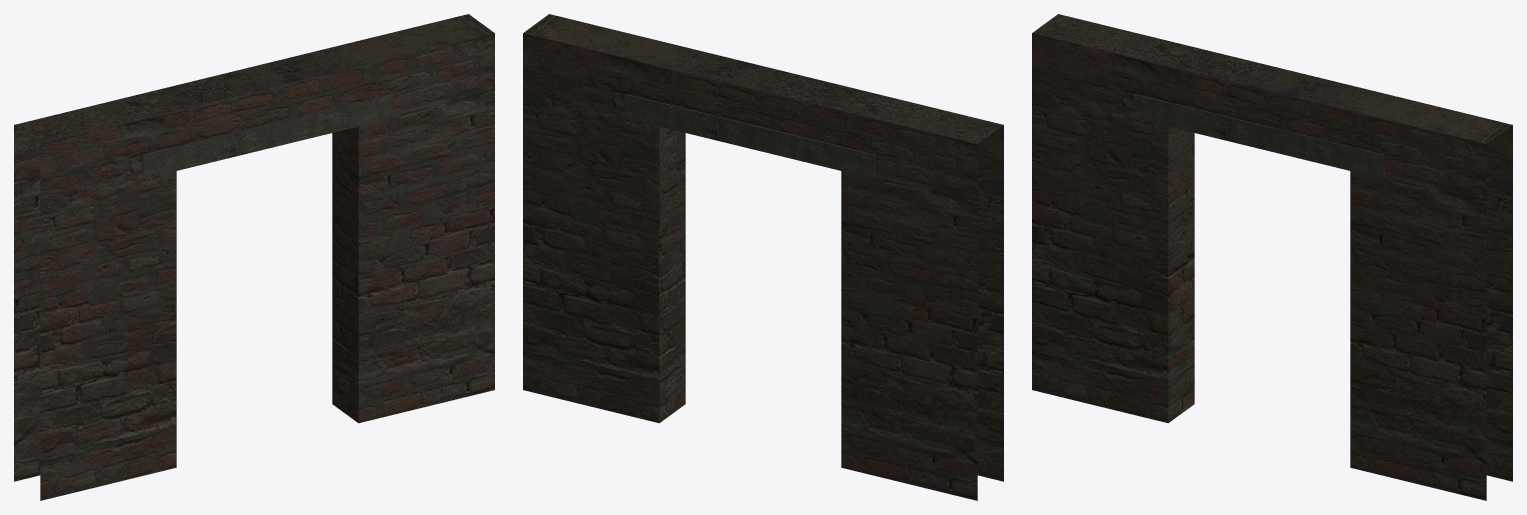
The model's file is doorway_hr_2_wide.dae.
3 views of the same model, side by side, from view 1: azimuth 30°, elevation 25°; view 2: azimuth 150°, elevation 25°; view 3: azimuth 330°, elevation 25° (orthographic).
Visible parts, largest first — view 1: doorway_hr_2_wide; view 2: doorway_hr_2_wide; view 3: doorway_hr_2_wide.
Part boxes in pixels (x1,y1,x2,y2): doorway_hr_2_wide: [14, 14, 494, 500]; doorway_hr_2_wide: [523, 14, 1003, 500]; doorway_hr_2_wide: [1032, 14, 1512, 500].
Size of the model in its own units: 4 by 0.42 by 3.
3 materials, 3 textured.
